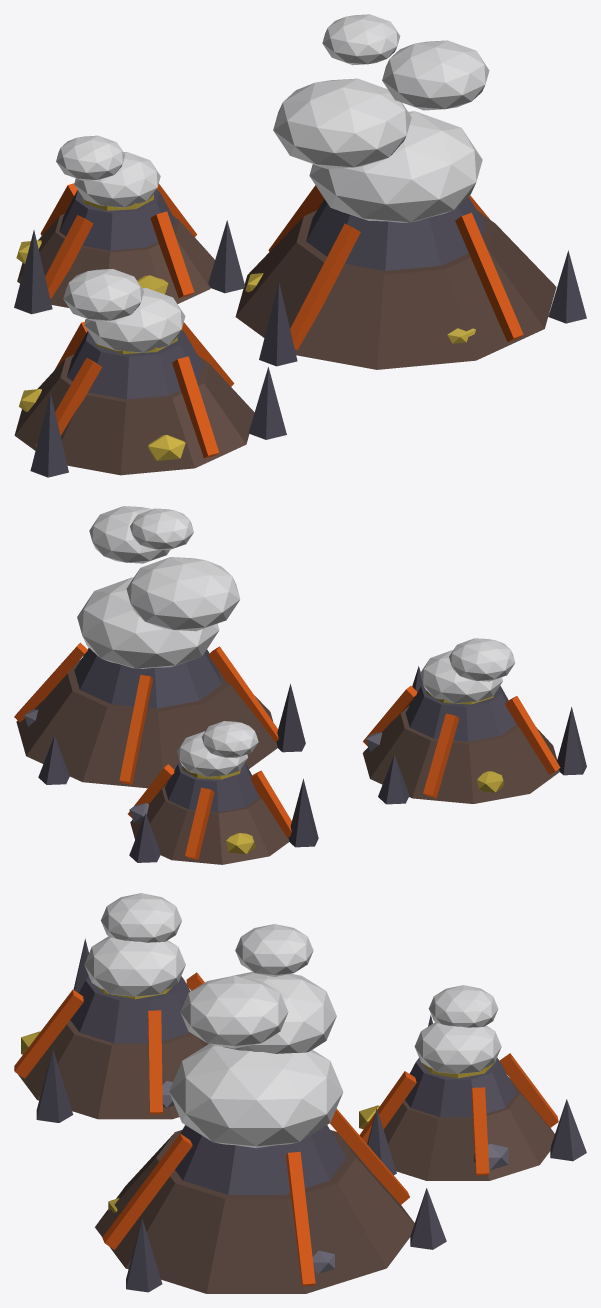
Rendered from Decor_Volcano_Vents.fbx.
The picture shows the model from 3 angles, top to bottom: view 1: azimuth 30°, elevation 25°; view 2: azimuth 150°, elevation 25°; view 3: azimuth 270°, elevation 25°; orthographic projection. The views are drawn at different scales.
Parts seen in each view (by area): view 1: Vents_Body; view 2: Vents_Body; view 3: Vents_Body.
Boxes of the visible parts, box(x1,y1,x2,y2) form: Vents_Body: box(14, 14, 586, 477); Vents_Body: box(14, 506, 586, 864); Vents_Body: box(14, 893, 586, 1293).
Size of the model in its own units: 16 by 7.4 by 13.5.
